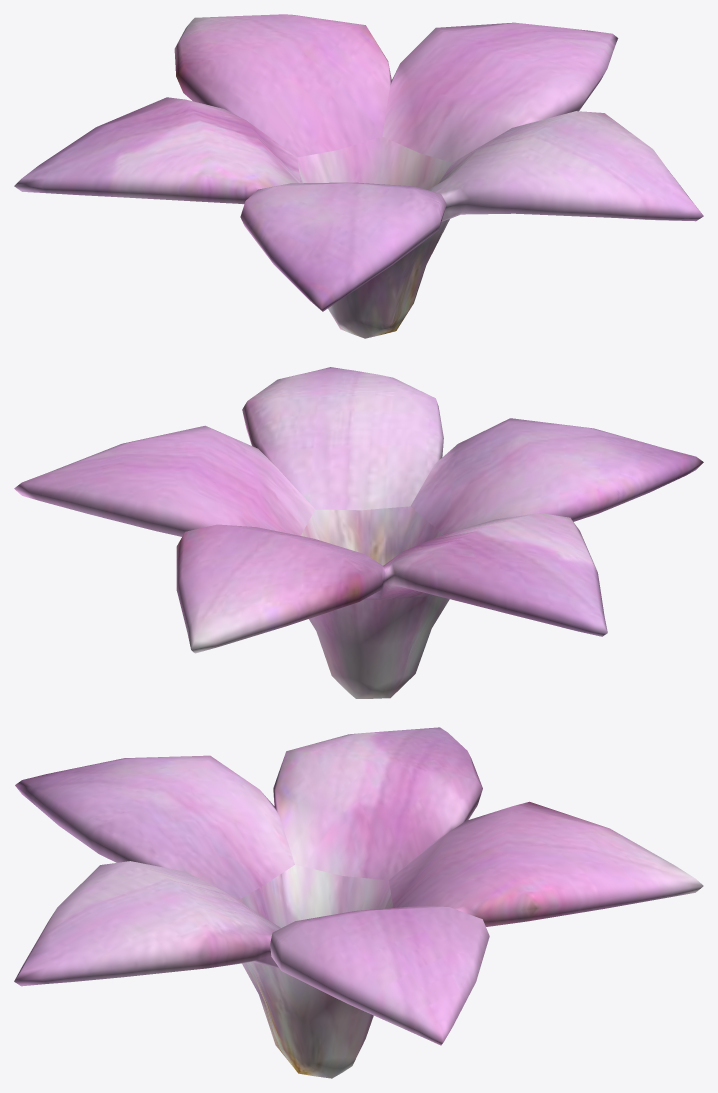
Rendered from healthPickup.fbx.
3 views of the same model, one above another, from view 1: azimuth 30°, elevation 25°; view 2: azimuth 150°, elevation 25°; view 3: azimuth 270°, elevation 25° (orthographic). The views are drawn at different scales.
Visible parts, largest first — view 1: polySurface1; view 2: polySurface1; view 3: polySurface1.
Part boxes in pixels (x1,y1,x2,y2): polySurface1: (14, 14, 703, 338); polySurface1: (14, 367, 703, 698); polySurface1: (14, 727, 703, 1078).
Size of the model in its own units: 12.01 by 4.32 by 11.25.
